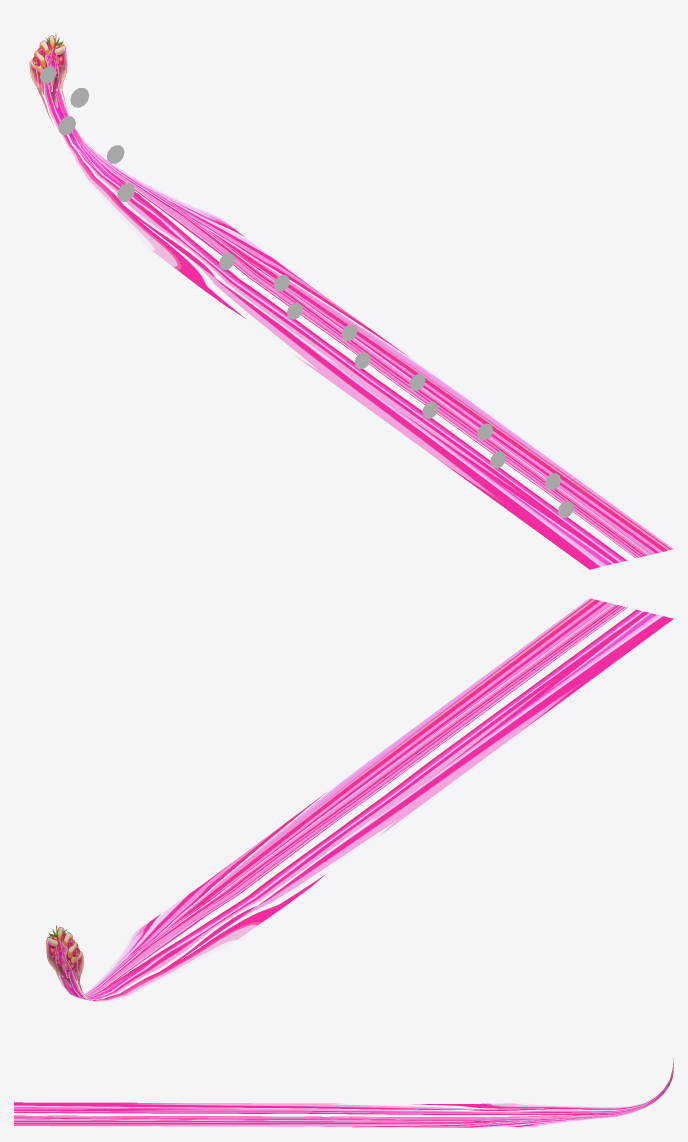
The picture shows the model from 3 angles, top to bottom: view 1: azimuth 30°, elevation 25°; view 2: azimuth 150°, elevation 25°; view 3: azimuth 270°, elevation 25°; orthographic projection. The views are drawn at different scales.
Parts seen in each view (by area): view 1: Plane.003; view 2: Plane.003; view 3: Plane.003.
Part boxes in pixels (bbox=[...]): Plane.003: bbox=[29, 33, 673, 569]; Plane.003: bbox=[46, 598, 673, 1002]; Plane.003: bbox=[14, 1058, 673, 1127].
Size of the model in its own units: 10.53 by 13.92 by 125.
Materials: 1 (1 with a texture image).
